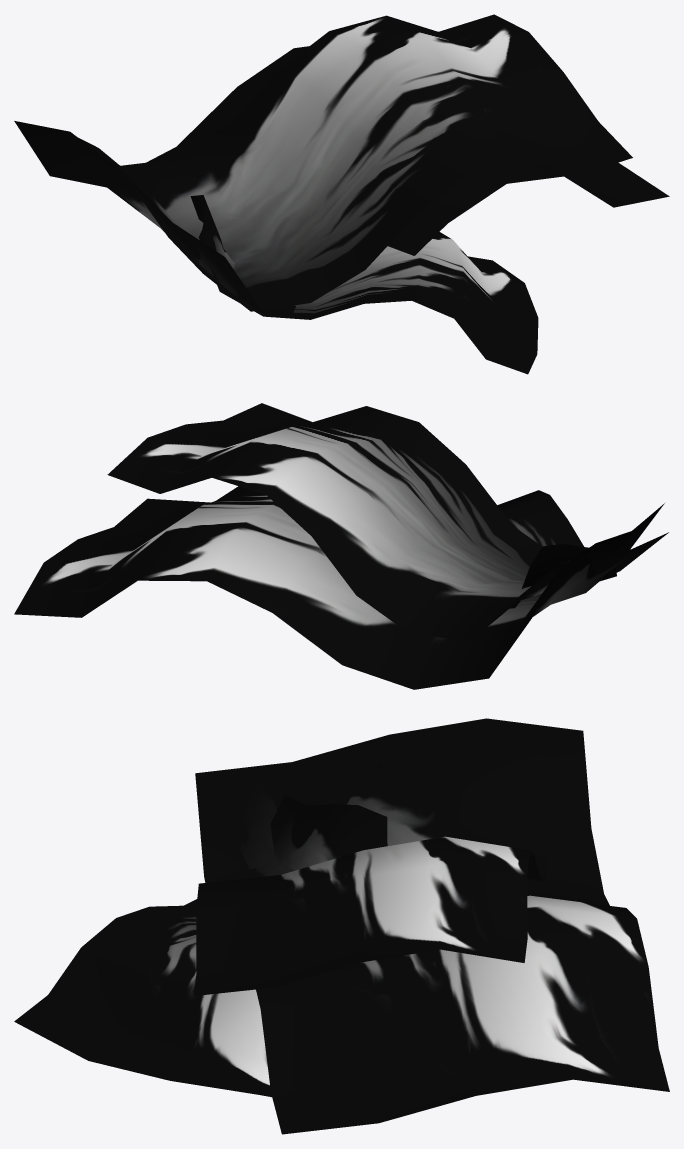
The model's file is RightWing.FBX.
3 views of the same model, one above another, from view 1: azimuth 30°, elevation 25°; view 2: azimuth 150°, elevation 25°; view 3: azimuth 270°, elevation 25° (orthographic). The views are drawn at different scales.
Visible parts, largest first — view 1: Plane02; view 2: Plane02; view 3: Plane02.
Part boxes in pixels (x1,y1,x2,y2): Plane02: [14, 14, 669, 374]; Plane02: [14, 403, 668, 689]; Plane02: [14, 718, 669, 1134].
Size of the model in its own units: 127 by 47.49 by 123.
Materials: 1 (1 with a texture image).
